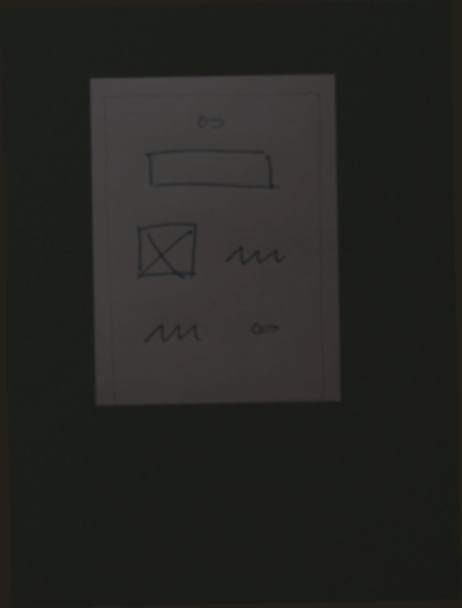image: (128, 218, 205, 285)
switch: (241, 316, 294, 340), (191, 111, 236, 135)
text: (131, 319, 208, 346), (222, 240, 292, 269)
text_input: (137, 145, 287, 196)
